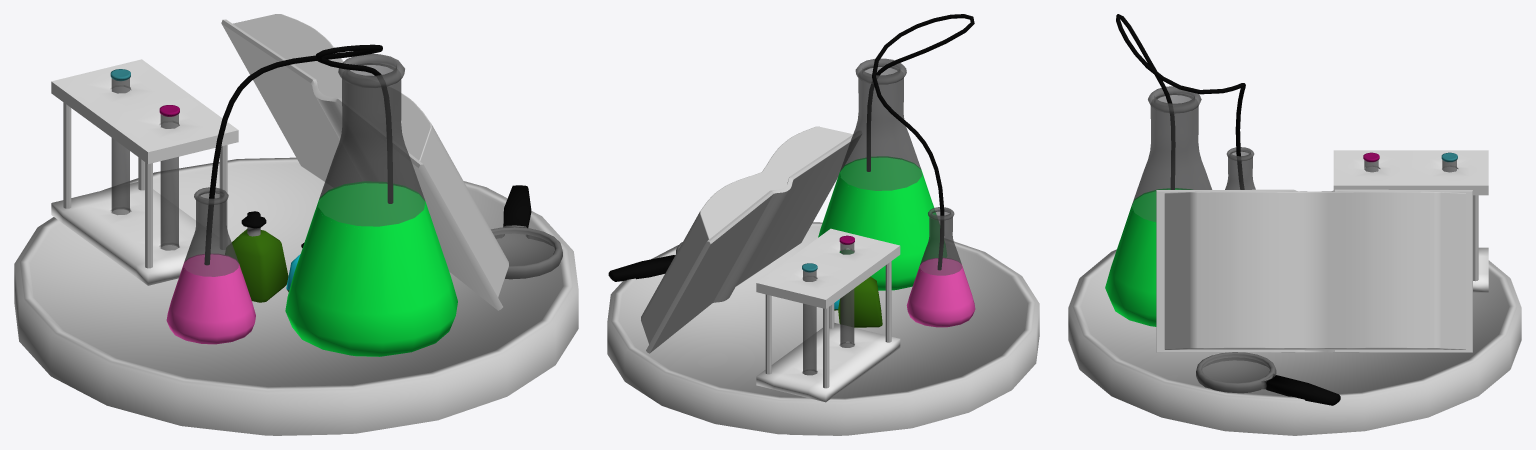
Rendered from Alchemy_Table_Combined.fbx.
3 renders of one model, left to right at view 1: azimuth 30°, elevation 25°; view 2: azimuth 150°, elevation 25°; view 3: azimuth 270°, elevation 25°, orthographic. The views are drawn at different scales.
Visible parts, largest first — view 1: ALCHEMY_TABLE_COMBINED; view 2: ALCHEMY_TABLE_COMBINED; view 3: ALCHEMY_TABLE_COMBINED.
Part boxes in pixels (box(x1,y1,x2,y2)): ALCHEMY_TABLE_COMBINED: box(14, 14, 578, 435); ALCHEMY_TABLE_COMBINED: box(607, 14, 1039, 435); ALCHEMY_TABLE_COMBINED: box(1068, 14, 1521, 435).
Size of the model in its own units: 208 by 158 by 204.
